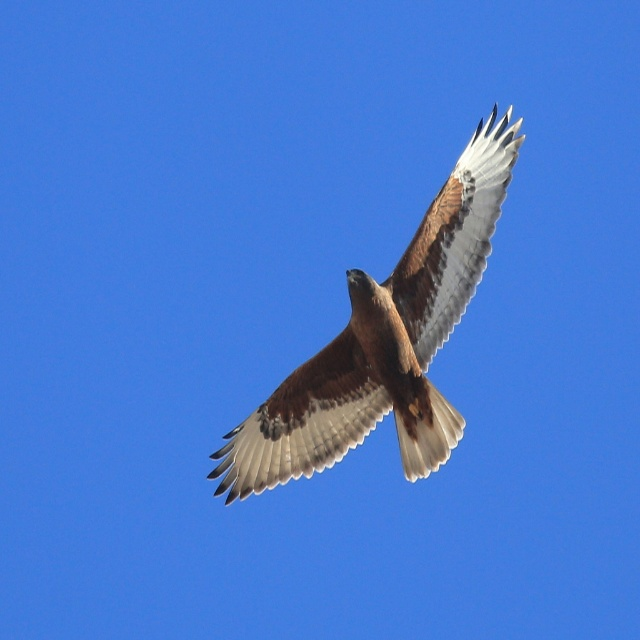Eagle: (207, 104, 524, 507)
